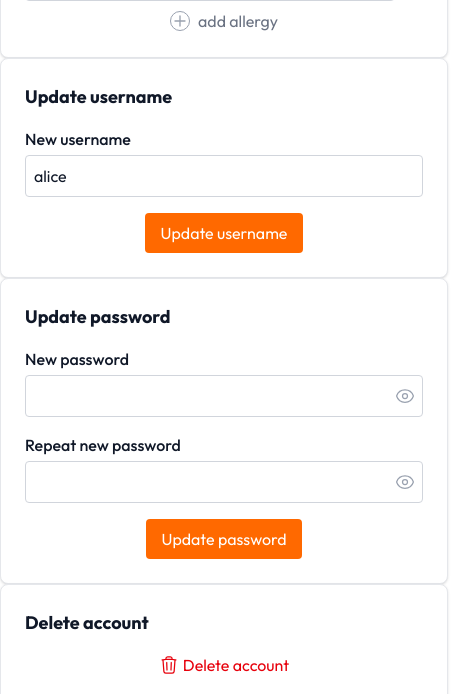
Test: ProfilePage › blocks the password update when the two fields disagree (no PUT issued)
The width and height of the screenshot is (465, 694).
(page scrolled)
Type "aaa" into the password field labelled "New password".
click(224, 396); type("aaa")  # box x1=25 y1=375 x2=423 y2=417
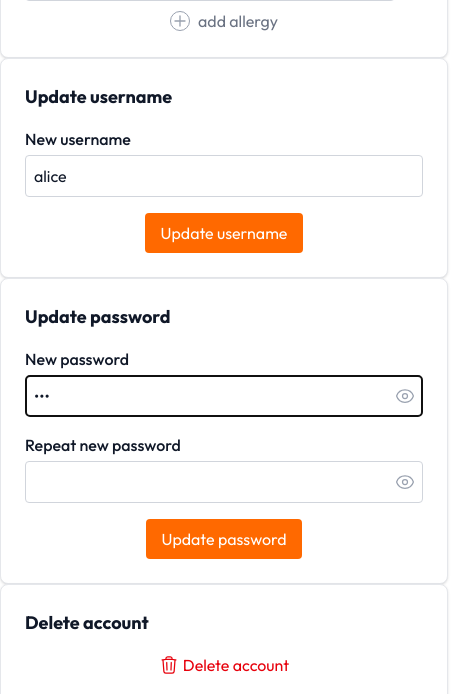
Type "bbb" into the password field labelled "Repeat new password".
click(224, 482); type("bbb")  # box x1=25 y1=461 x2=423 y2=503
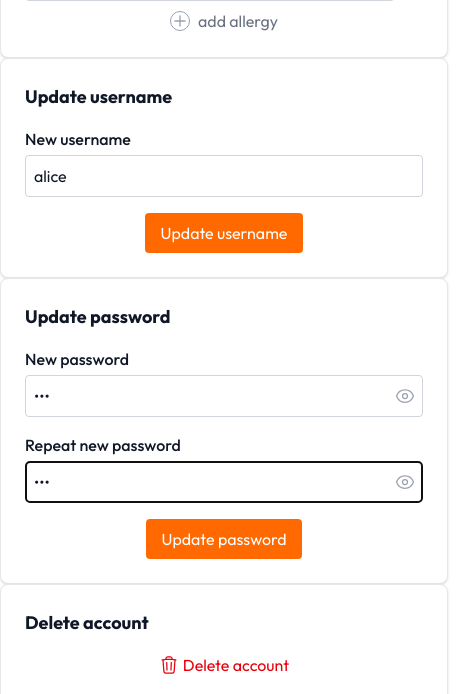
Click the button "Update password".
click(224, 539)  # box x1=146 y1=519 x2=302 y2=559
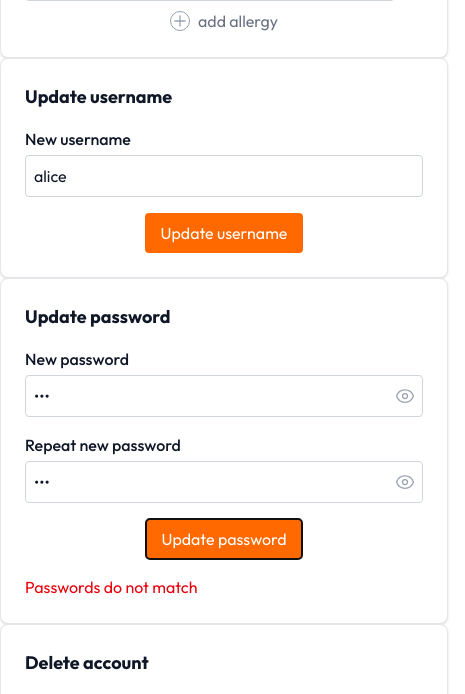
Expected: the text "Passwords do not match" is shown, x1=25 y1=577 x2=197 y2=597
